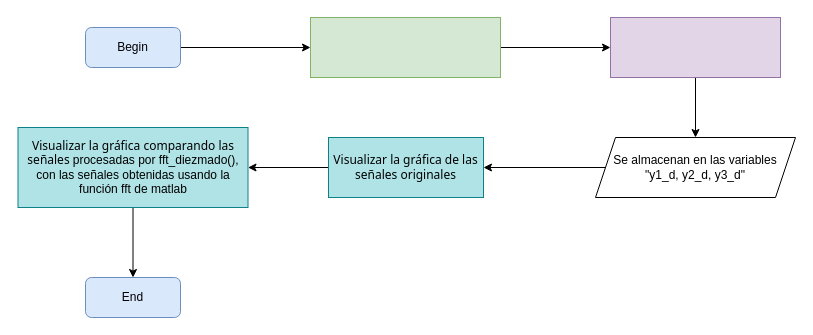
This 813x335 diagram has some shape labels left out. The shapes that lost their labels are listed below. From the top down, each one's centre as x and y in pixels, then its label:
At [405,47]: "Cargar el archivo de las señales Tarea1_ProcSenal.mat".
At [695,47]: "Procesar las señales usando la función fft_diezmado()".
